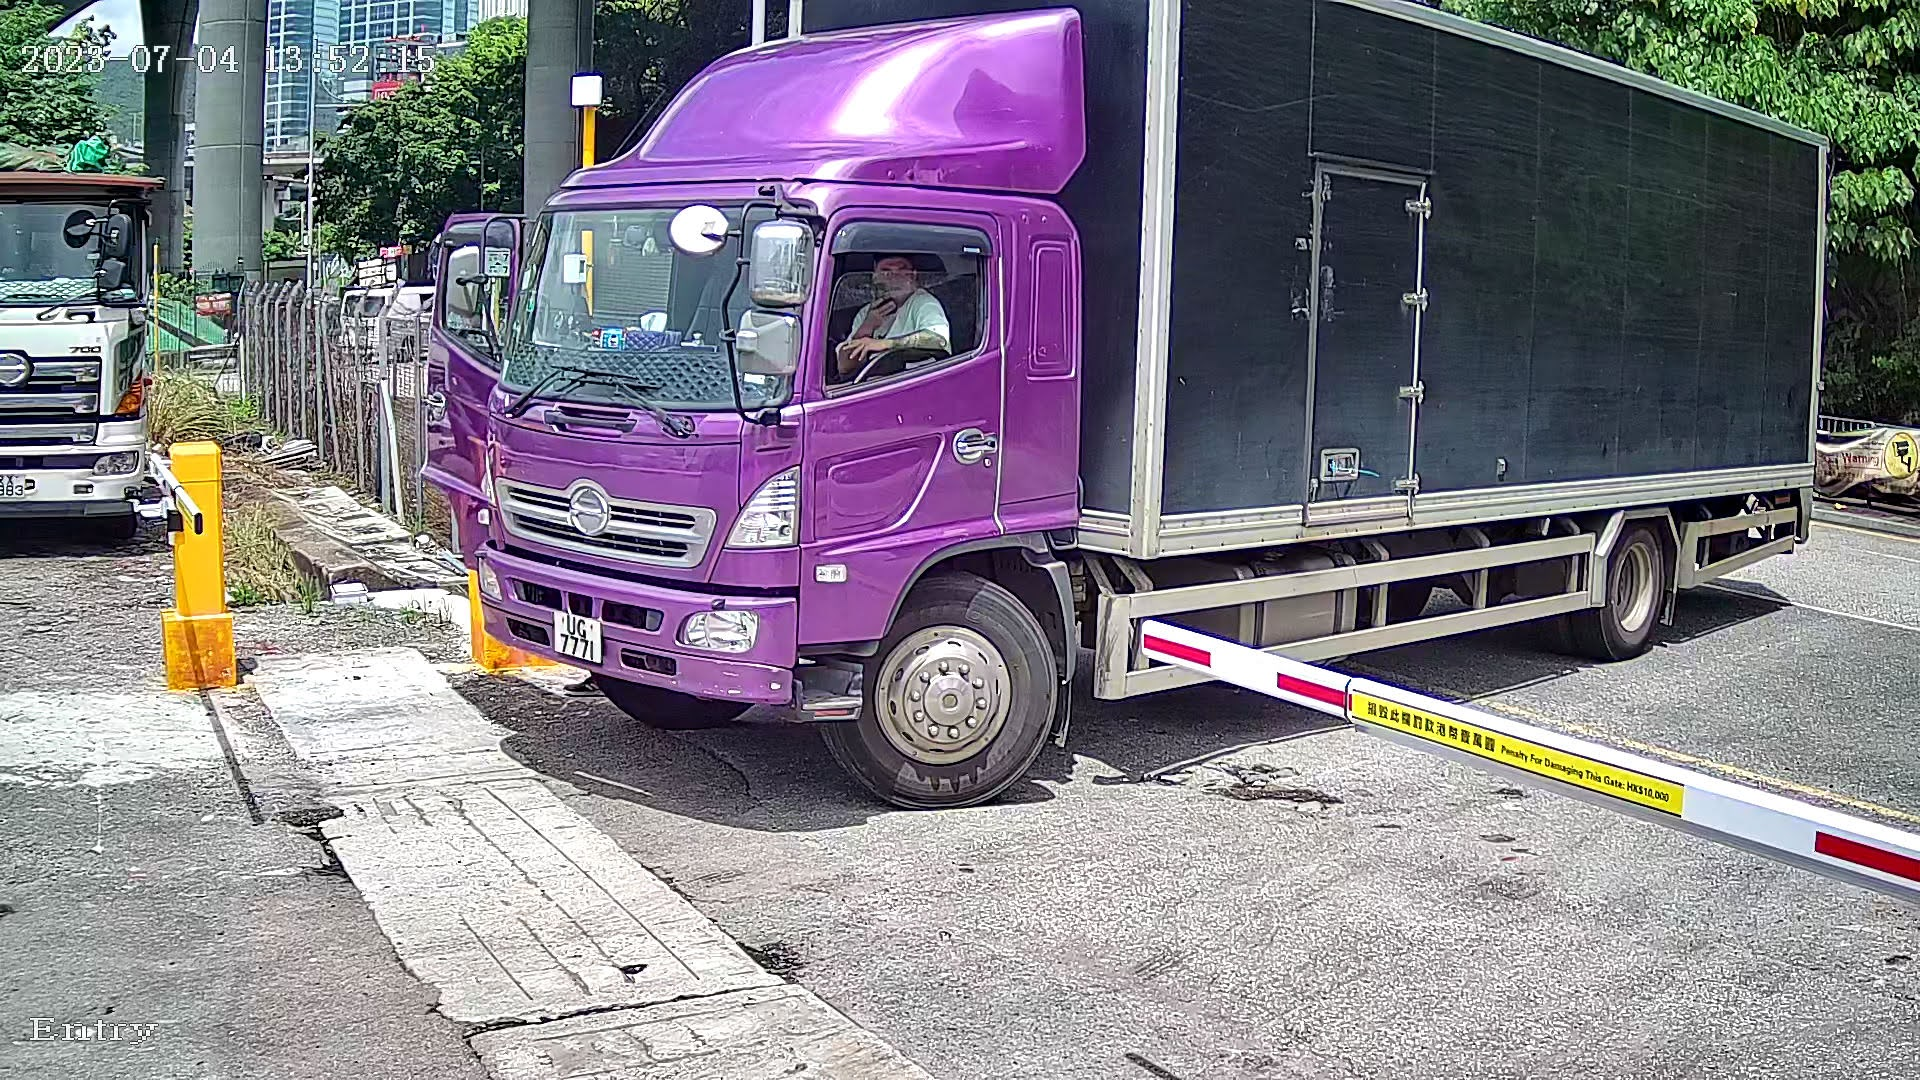truck: (425, 1, 1869, 818)
